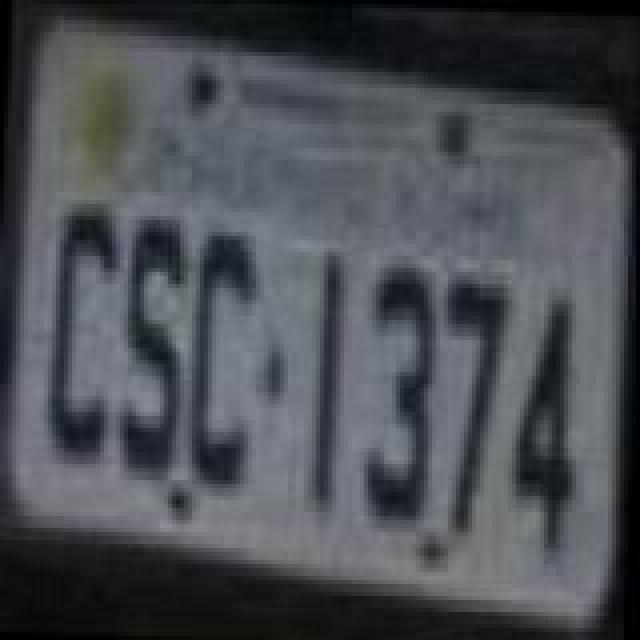1: (302, 246, 350, 510)
3: (352, 254, 444, 530)
4: (506, 282, 590, 558)
7: (430, 266, 518, 534)
C: (42, 192, 126, 464), (184, 224, 268, 492)
S: (112, 208, 196, 484)
